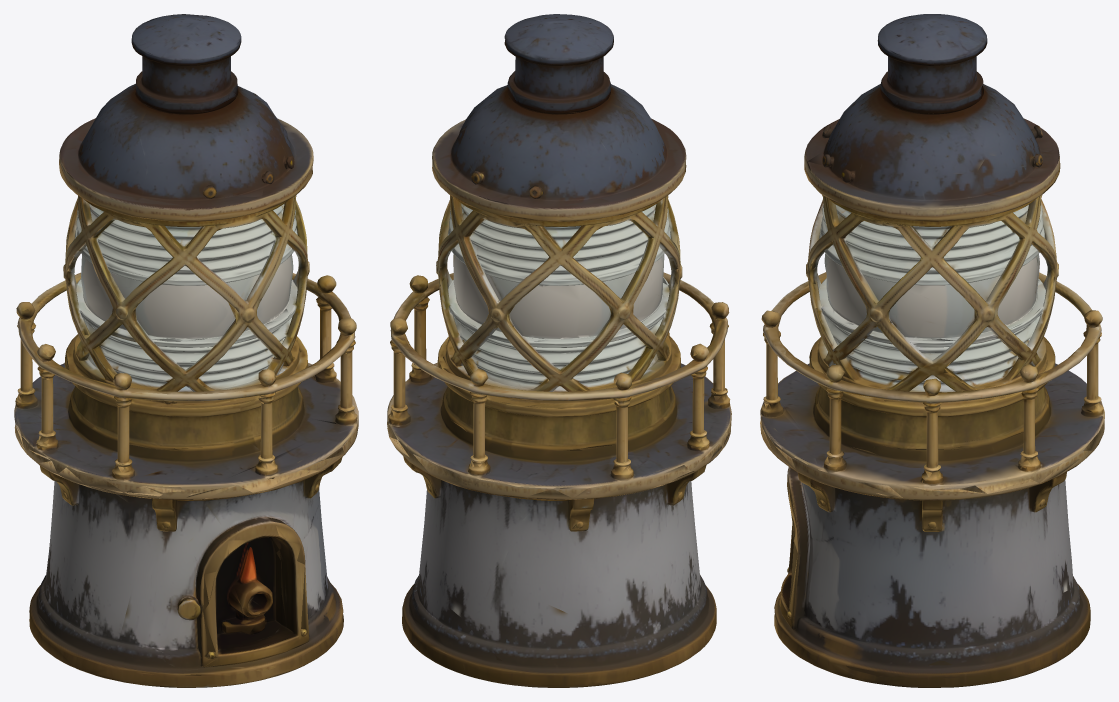
Rendered from lhi_arc_lamp.glb.
3 views of the same model, side by side, from view 1: azimuth 30°, elevation 25°; view 2: azimuth 150°, elevation 25°; view 3: azimuth 270°, elevation 25° (orthographic).
Visible parts, largest first — view 1: material; view 2: material; view 3: material.
Part boxes in pixels (<box>): material: <box>14,14,358,687</box>; material: <box>387,14,731,687</box>; material: <box>760,14,1104,687</box>.
Bounding box in the file's own units: 0.5683 × 1.08 × 0.567.
1 material, 1 textured.
